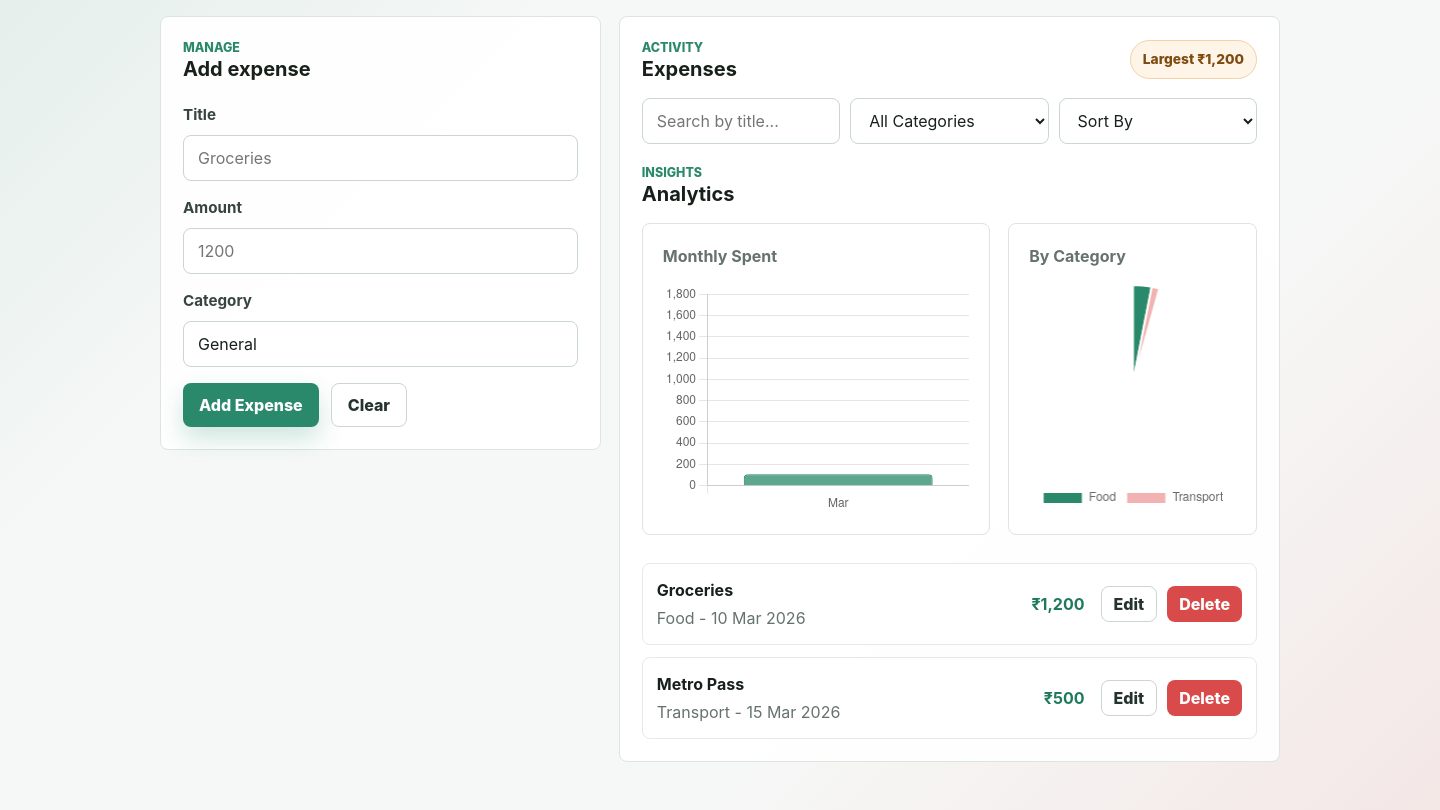
Test: DashboardPage › edits an existing expense
The width and height of the screenshot is (1440, 810).
(page scrolled)
Expected: the text "Groceries" is shown, 657,580 -> 733,600
Click the button "Edit" in the row of "10 Mar 2026": (1129, 604) 1100,586 -> 1157,622
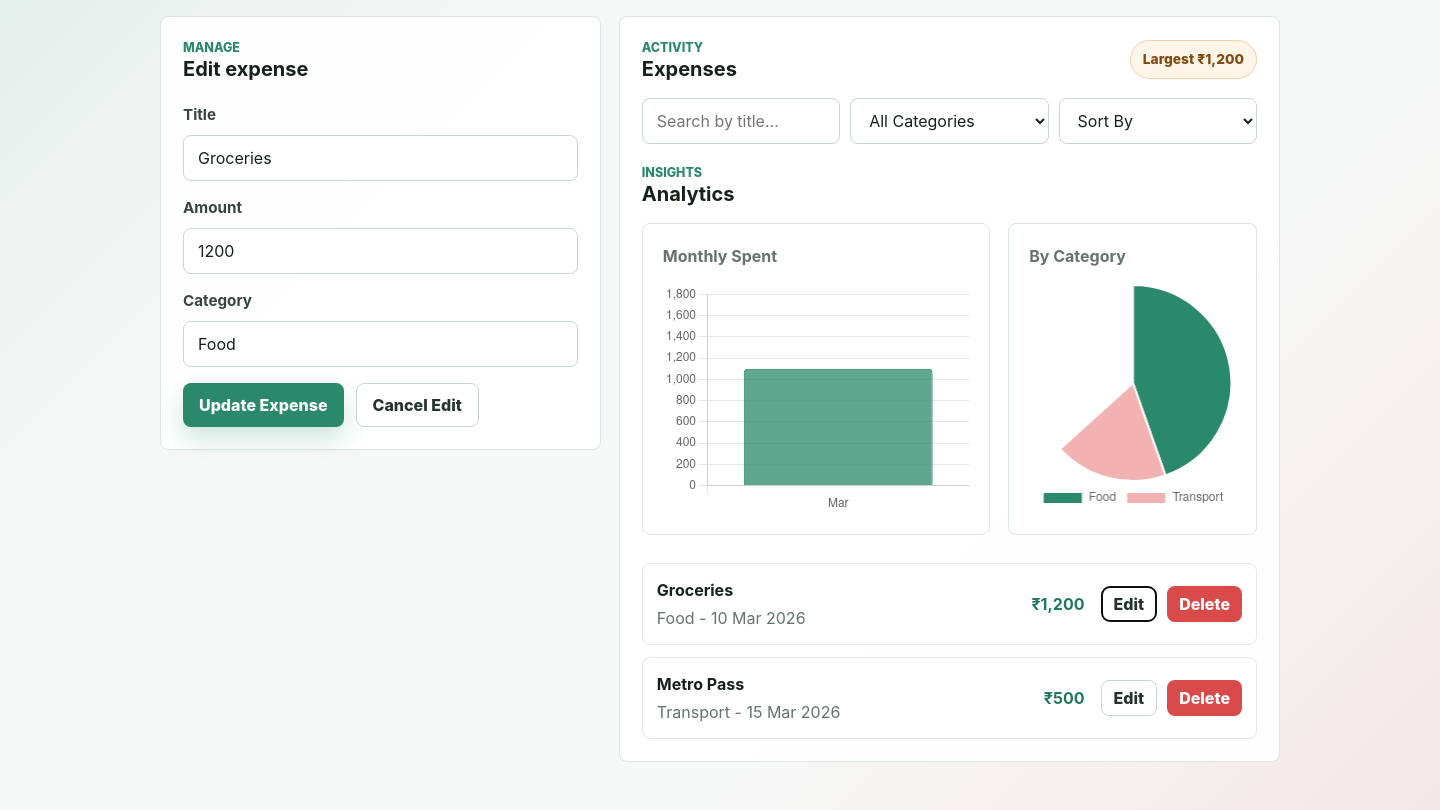
In the field with placeholder "Groceries" below "Title": (380, 158) 183,135 -> 578,181, type "Supermarket"
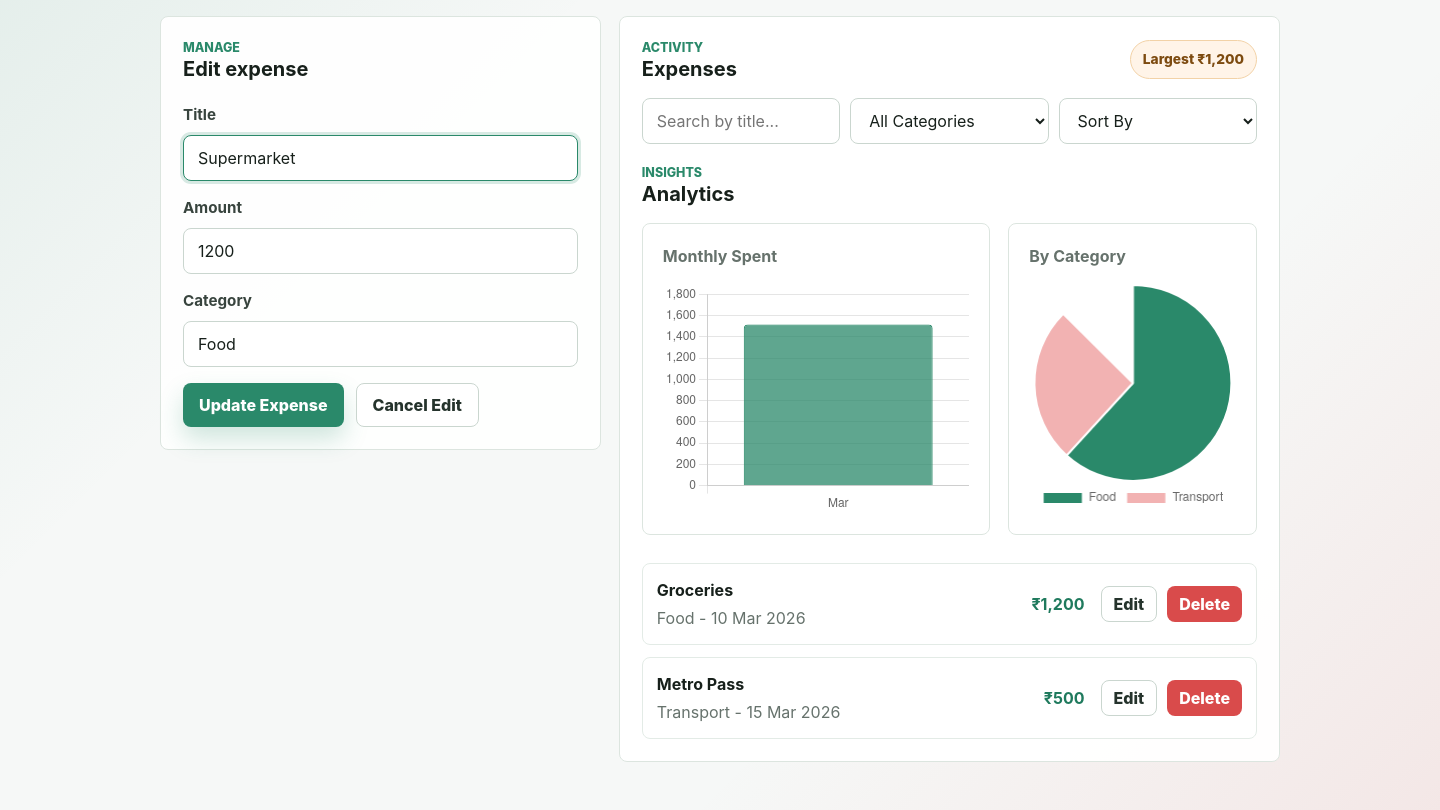
Click the button "Update Expense": (263, 404) 183,382 -> 344,426
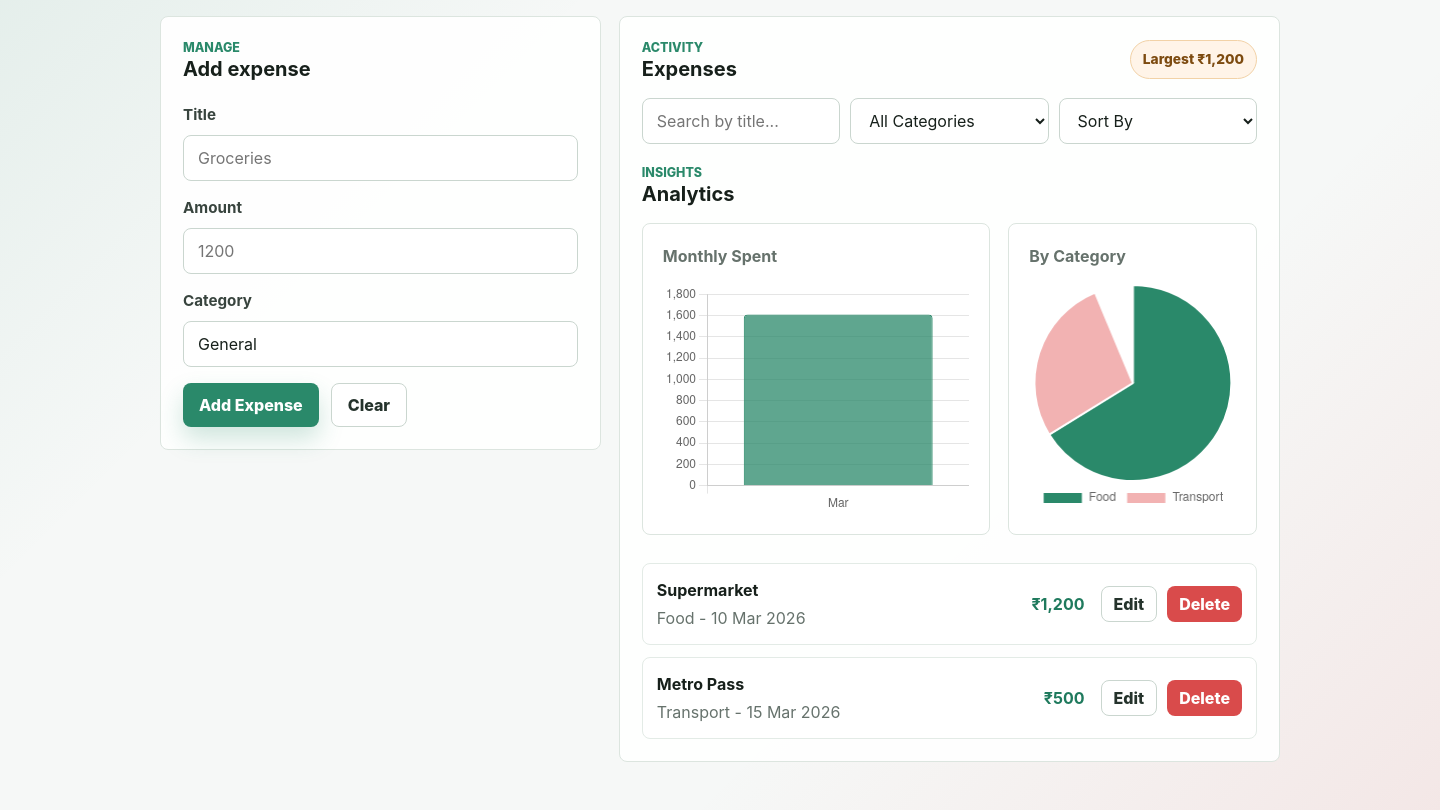
Result: the text "Supermarket" is shown at 657,580 -> 758,600
